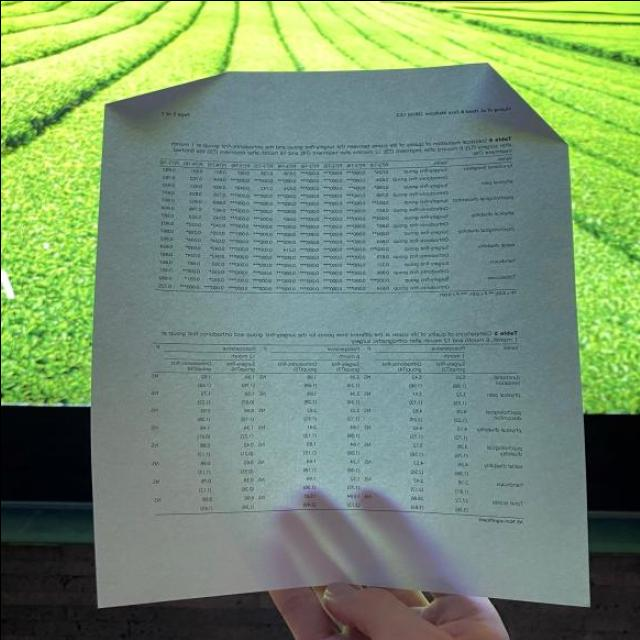kertas: (86, 62, 588, 613)
